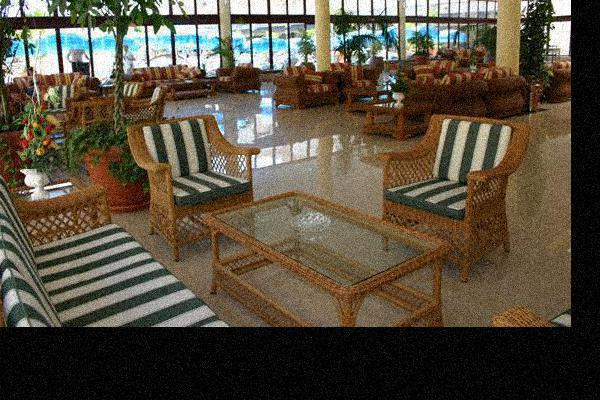Bote de Basura: (529, 85, 542, 114)
Matera: (64, 0, 149, 207), (0, 0, 38, 177), (526, 0, 550, 104)
